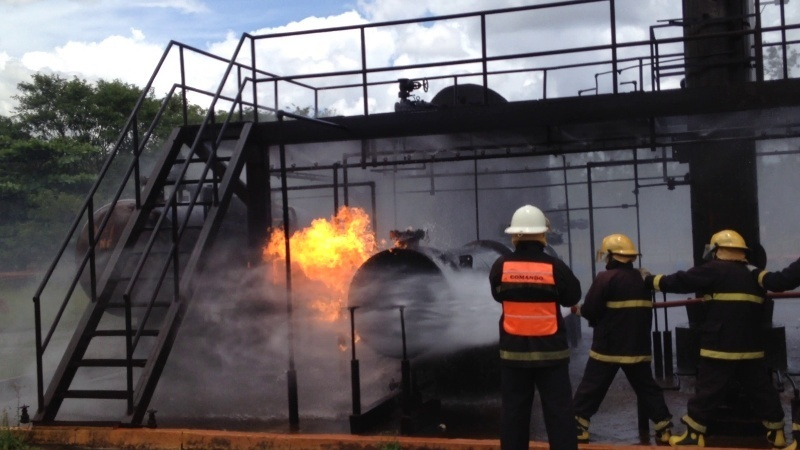fire: (258, 201, 404, 339)
